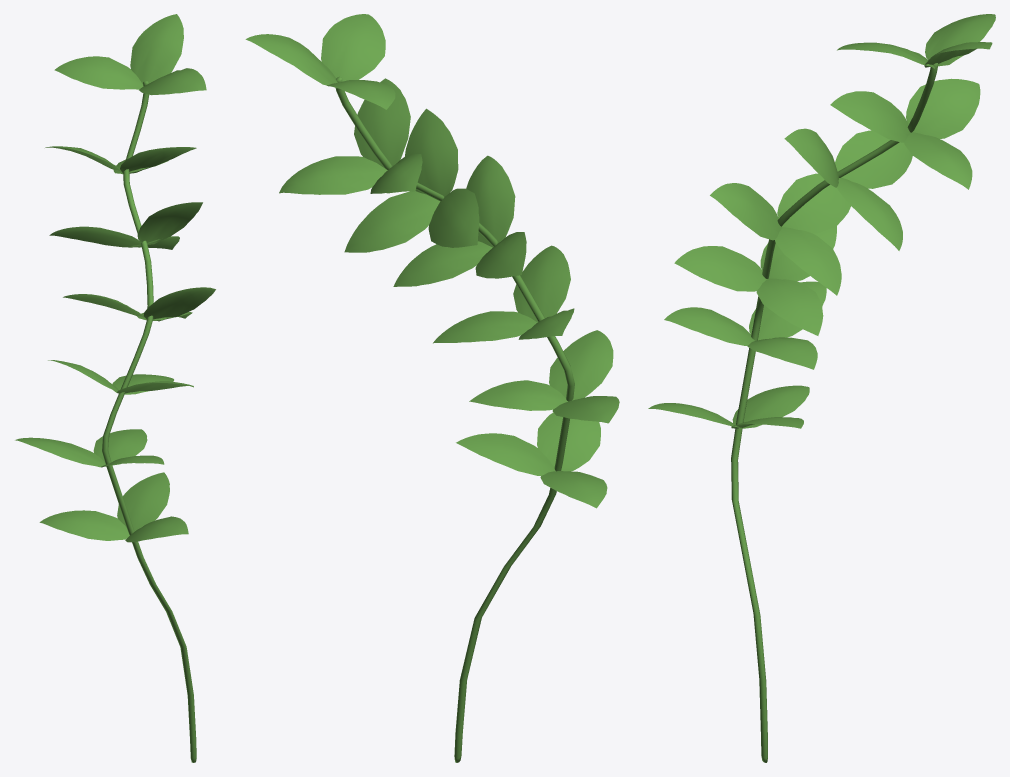
The model's file is mint_variant2.fbx.
3 renders of one model, left to right at view 1: azimuth 30°, elevation 25°; view 2: azimuth 150°, elevation 25°; view 3: azimuth 270°, elevation 25°, orthographic. The views are drawn at different scales.
Visible parts, largest first — view 1: Plane.005, Plane.003, Plane.004, Curve; view 2: Plane.003, Plane.004, Plane.005, Curve; view 3: Plane.005, Plane.003, Plane.004, Curve.
Part boxes in pixels (left/top/right/bottom): Plane.005: left=15, top=56, right=145, bottom=540; Plane.003: left=101, top=68, right=215, bottom=542; Plane.004: left=93, top=14, right=192, bottom=531; Curve: left=102, top=81, right=196, bottom=762; Plane.003: left=321, top=14, right=613, bottom=471; Plane.004: left=245, top=34, right=567, bottom=475; Plane.005: left=327, top=80, right=619, bottom=508; Curve: left=335, top=76, right=574, bottom=762; Plane.005: left=732, top=14, right=995, bottom=428; Plane.003: left=648, top=42, right=935, bottom=428; Plane.004: left=731, top=42, right=992, bottom=428; Curve: left=731, top=63, right=938, bottom=762.
Bounding box in the file's own units: 29.96 × 80.59 × 33.49.
